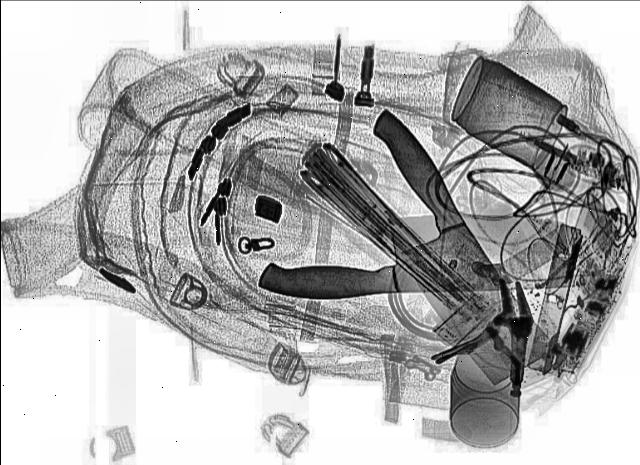Knife: (315, 106, 569, 386), (256, 211, 578, 299)
